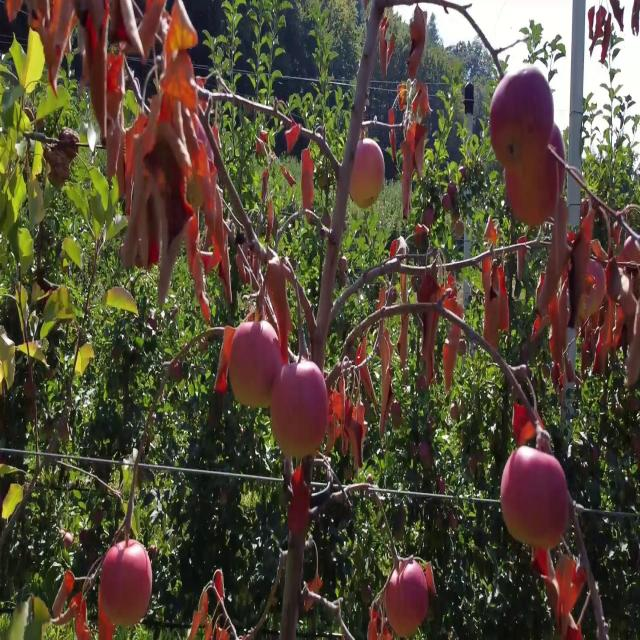apple: (100, 540, 153, 626), (504, 149, 560, 226), (236, 319, 281, 409), (228, 319, 272, 411), (500, 455, 543, 546), (512, 71, 555, 148), (384, 568, 430, 639), (116, 540, 153, 626), (292, 362, 328, 448), (488, 85, 526, 164), (540, 462, 572, 548), (249, 321, 281, 398), (529, 156, 563, 226), (228, 343, 259, 411), (272, 362, 297, 444), (352, 142, 385, 204), (40, 0, 71, 66), (272, 399, 303, 460), (504, 163, 532, 226), (576, 270, 607, 325), (44, 0, 75, 55), (100, 547, 124, 617), (572, 248, 604, 299), (264, 255, 296, 304), (544, 490, 572, 546), (156, 94, 183, 148), (545, 497, 572, 551), (288, 483, 312, 539), (92, 63, 116, 119), (172, 7, 200, 53), (576, 284, 607, 325), (328, 391, 350, 448), (44, 14, 68, 66), (536, 270, 559, 324), (572, 220, 600, 263), (269, 298, 293, 347), (488, 291, 511, 341), (548, 241, 571, 290), (108, 56, 127, 114), (204, 227, 227, 274), (180, 143, 207, 183), (164, 156, 186, 203), (512, 405, 536, 448), (484, 255, 508, 297), (89, 0, 110, 48), (444, 298, 465, 345), (116, 7, 137, 53), (84, 49, 107, 91), (180, 206, 200, 254), (180, 199, 200, 247), (48, 149, 71, 190), (548, 327, 569, 370), (88, 7, 110, 48), (232, 378, 258, 411), (204, 191, 224, 233), (416, 270, 439, 306), (104, 85, 125, 124), (588, 7, 612, 41), (140, 14, 157, 62), (608, 263, 630, 300), (304, 575, 324, 615), (552, 199, 570, 242), (380, 21, 396, 69), (28, 0, 49, 36), (492, 135, 514, 169), (144, 0, 165, 34), (92, 74, 107, 121), (404, 120, 424, 155), (368, 604, 388, 639), (140, 21, 157, 62), (160, 71, 179, 107), (348, 334, 368, 368), (100, 597, 116, 639), (168, 199, 182, 247), (184, 113, 203, 148), (440, 270, 457, 309), (412, 7, 428, 48), (408, 49, 426, 85), (120, 234, 138, 270), (412, 85, 431, 119), (484, 312, 501, 350), (420, 561, 436, 601), (532, 547, 551, 580), (224, 327, 238, 370), (284, 120, 301, 155), (60, 135, 80, 164), (408, 120, 428, 149), (180, 85, 197, 119), (404, 127, 417, 171), (56, 291, 73, 324), (548, 127, 565, 160), (32, 597, 51, 626), (624, 355, 640, 389), (148, 234, 163, 270), (429, 279, 447, 309), (516, 241, 528, 284), (624, 234, 640, 263), (424, 561, 436, 599), (444, 341, 458, 373), (420, 440, 435, 469), (8, 0, 24, 27), (304, 177, 316, 212), (388, 127, 399, 165), (468, 455, 486, 478), (612, 0, 624, 34), (444, 184, 458, 213), (621, 298, 640, 318), (400, 85, 413, 114), (216, 369, 228, 398), (64, 568, 76, 597), (404, 149, 416, 178), (76, 618, 92, 639), (592, 241, 607, 263), (304, 149, 316, 176), (632, 0, 640, 36), (632, 270, 640, 306), (172, 362, 185, 384), (256, 135, 269, 156), (448, 511, 460, 533), (400, 85, 409, 114), (392, 127, 398, 165), (64, 533, 75, 551), (616, 305, 625, 325), (628, 399, 640, 414), (80, 533, 91, 548), (632, 440, 640, 460), (592, 447, 600, 466), (96, 511, 104, 526)
